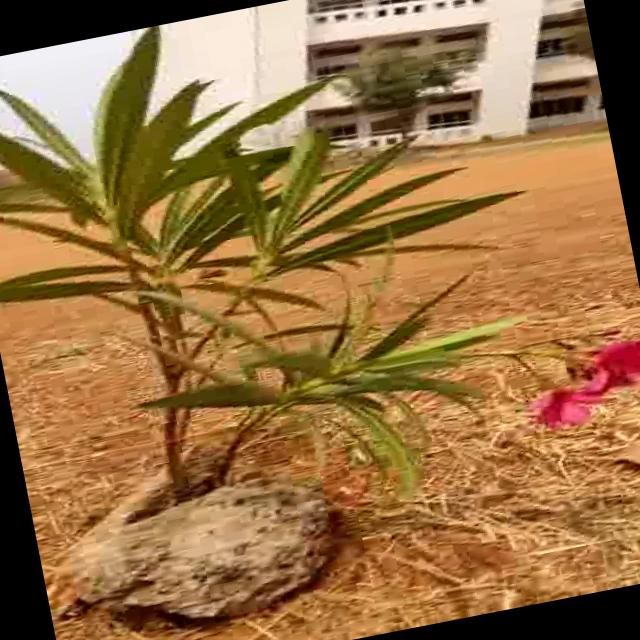Oleander: (0, 3, 553, 507)
